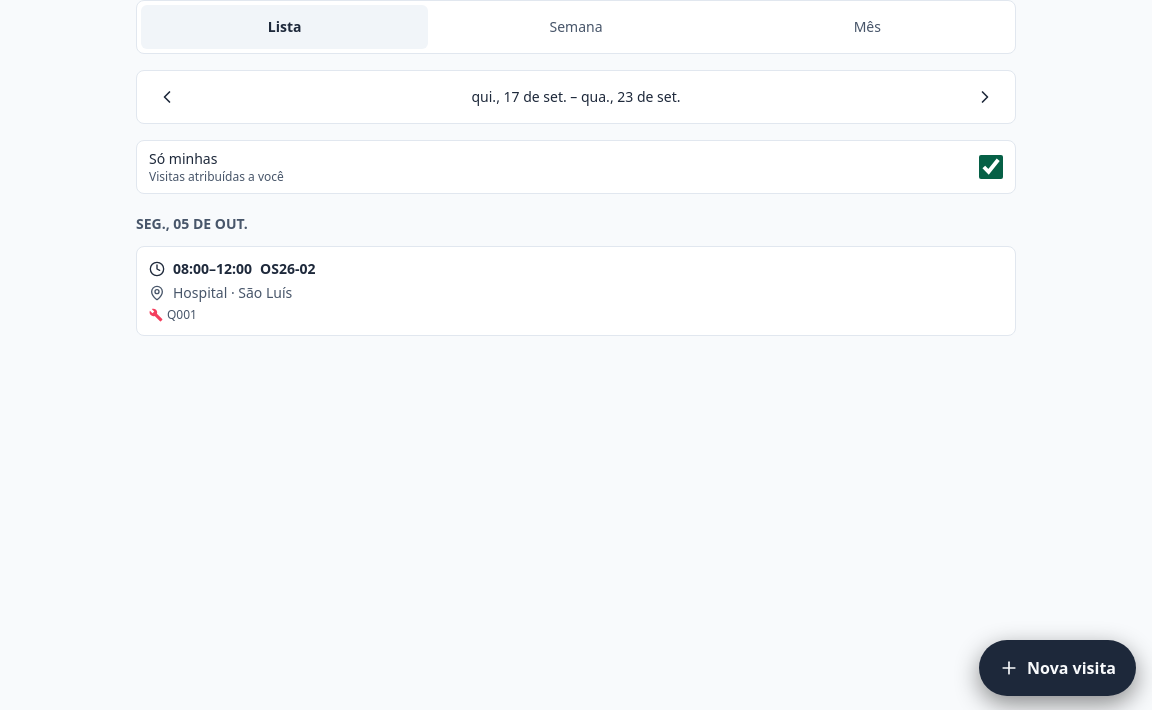
Test: Modo Mês › legenda inclui técnico e instrumento de um dia de transbordo (fora do mês estrito, dentro da janela de 42 dias)
Click the button "Mês".
click(867, 27)  # box 724,5 -> 1011,49
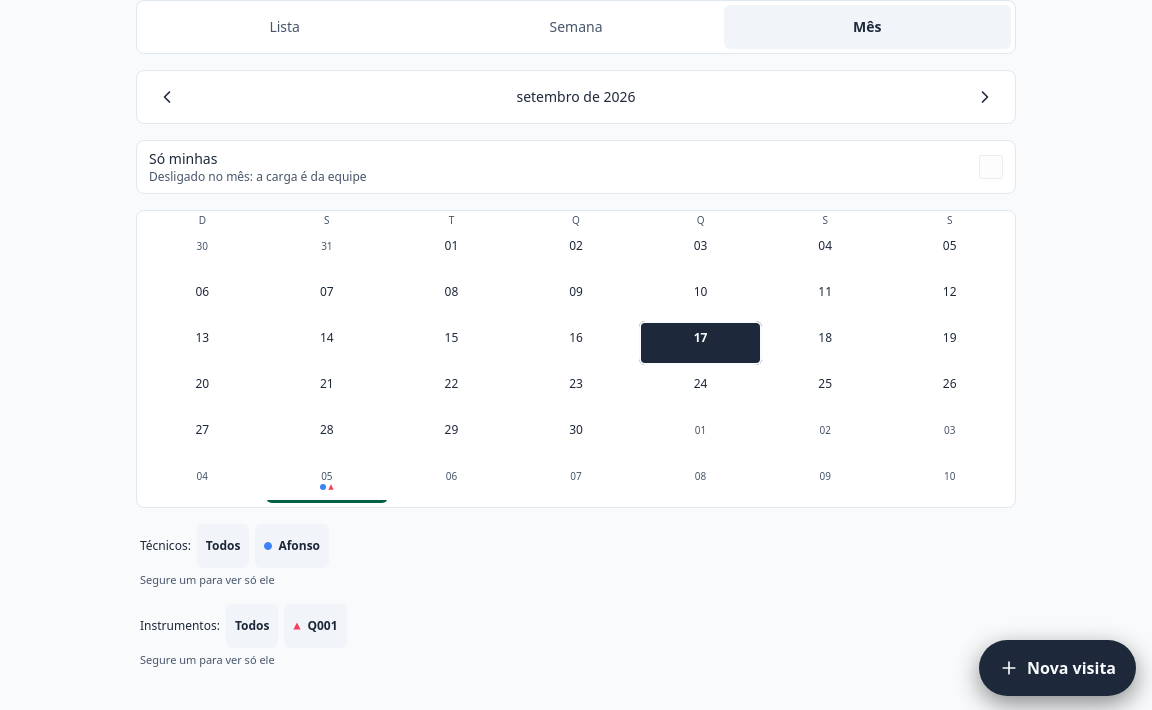
Expected: the button "Q001" is shown, 284,604 -> 347,648
Result: the text "setembro de 2026" is shown at 516,87 -> 636,107
Result: the button "Afonso" is shown at 255,524 -> 329,568
